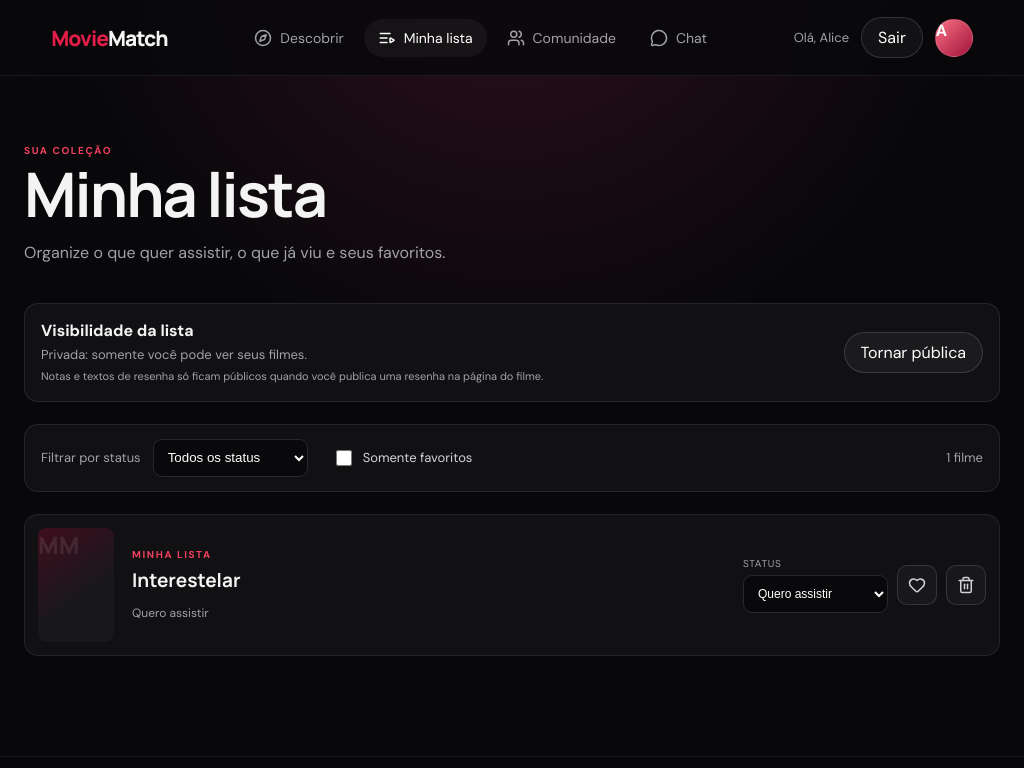
MovieMatch home › keeps cached data unchanged after a failed mutation and retries it explicitly
This screenshot has width=1024, height=768.
Step 1. Click the button named "Adicionar Interestelar aos favoritos" → (917, 585), box [897,565,937,605]
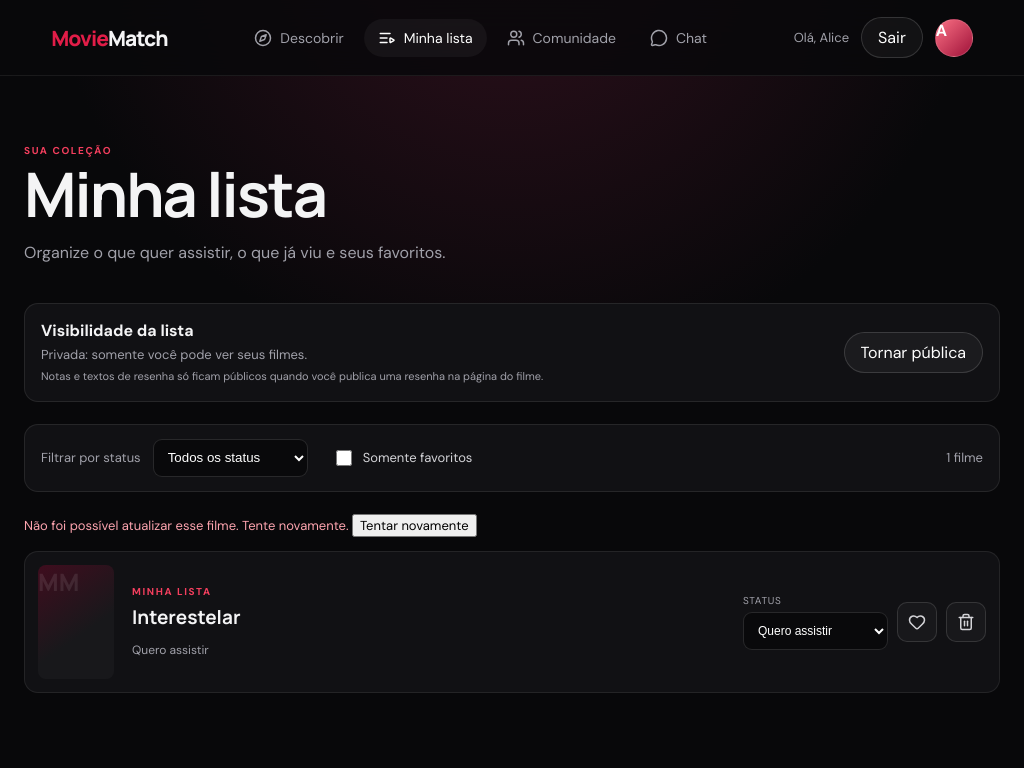
Expected: the button named "Adicionar Interestelar aos favoritos" is shown, [897,602,937,642]
Result: the message shows "Não foi possível atualizar esse filme" at [24,517,348,534]
Step 2. Click the button "Tentar novamente" → (414, 525), box [352,514,477,537]
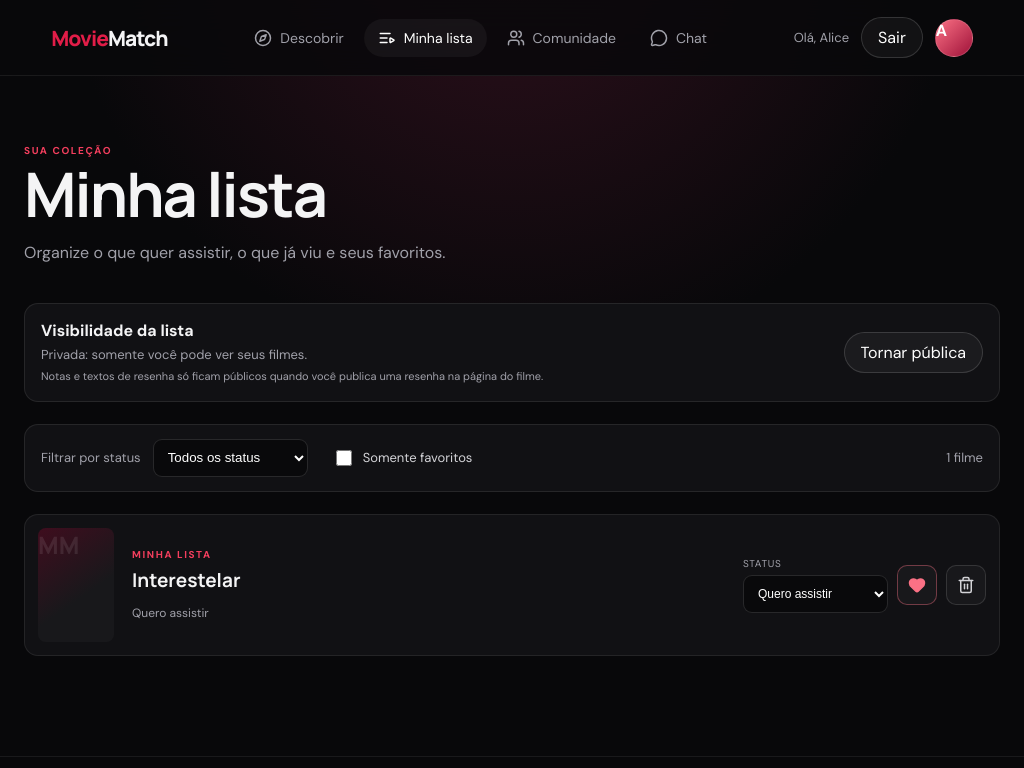
Result: the button named "Remover Interestelar dos favoritos" is shown at [897,565,937,605]
